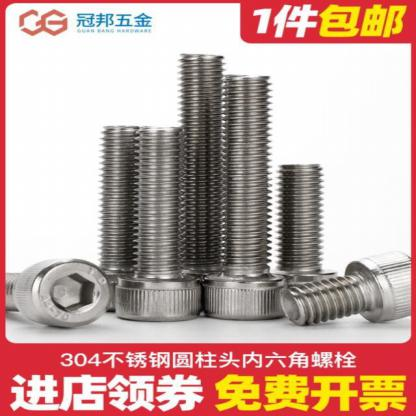FOD: (202, 70, 290, 322), (112, 124, 204, 323), (257, 162, 338, 317), (276, 250, 412, 328), (0, 258, 113, 329)
